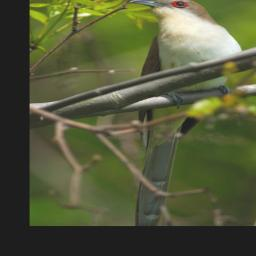Cuckoo: (126, 0, 248, 225)
